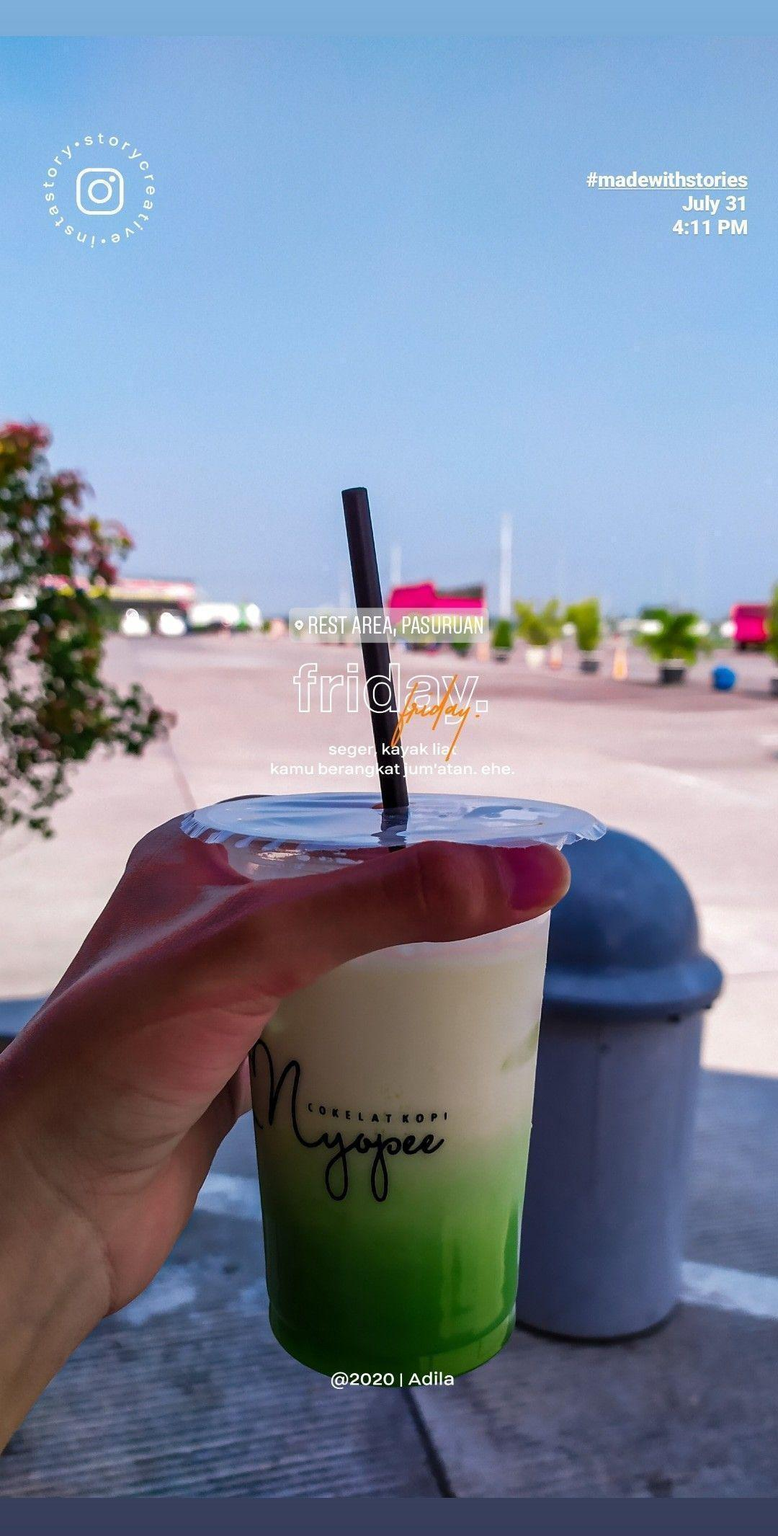cup-disposable: (184, 782, 609, 1390)
